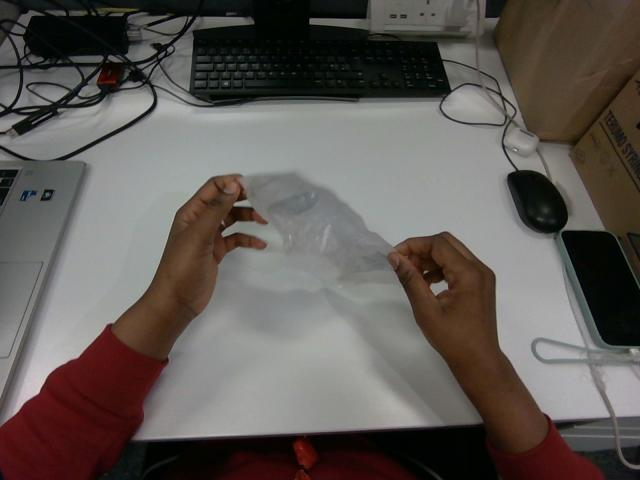gallipot: (240, 173, 394, 282)
